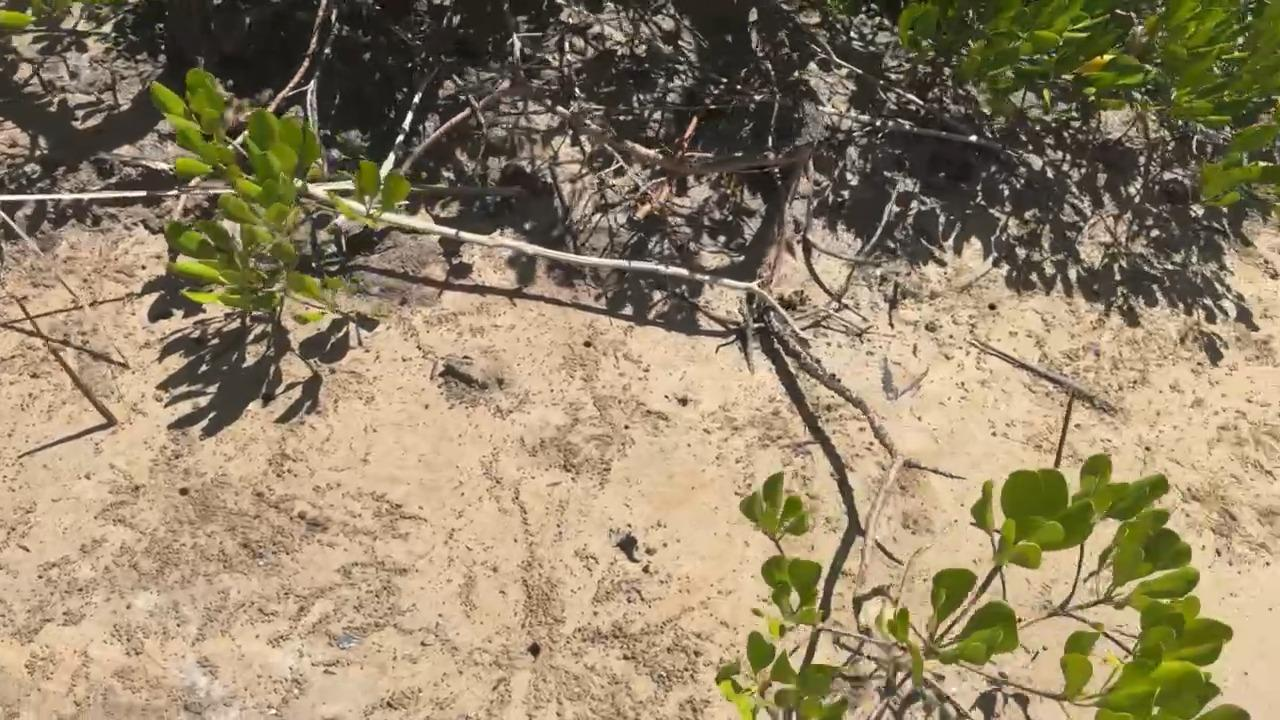Tree: (0, 207, 134, 371), (13, 292, 118, 427), (1053, 389, 1074, 469)
